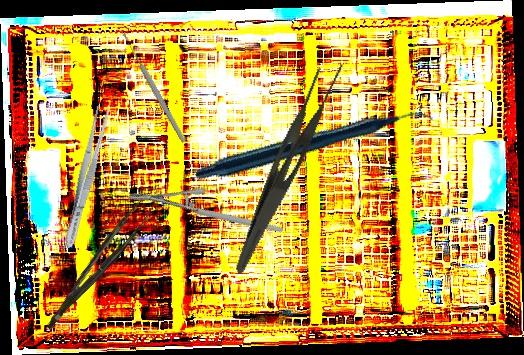Dressing Forceps: (233, 51, 347, 285), (59, 103, 113, 251)
Handpiece: (194, 45, 435, 250)
Needle Holder: (127, 149, 284, 278)
Surgical Spoon: (120, 31, 188, 144)
Tissue Forceps: (31, 198, 161, 330)
